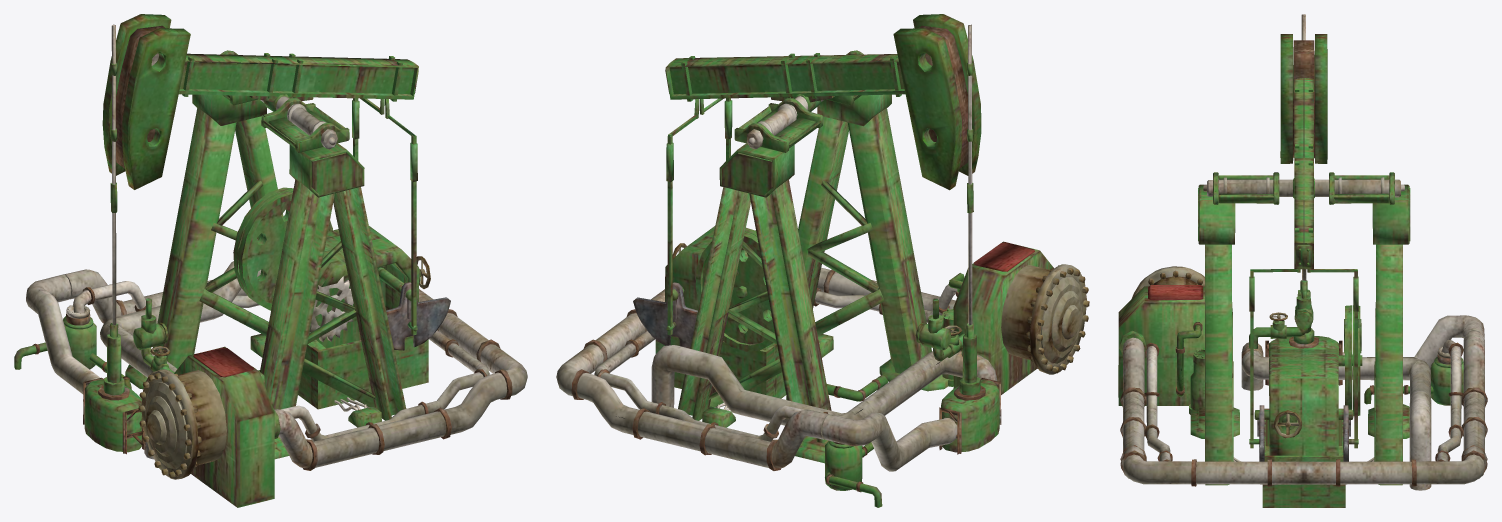
Rendered from pumpjack.glb.
3 views of the same model, side by side, from view 1: azimuth 30°, elevation 25°; view 2: azimuth 150°, elevation 25°; view 3: azimuth 270°, elevation 25° (orthographic). The views are drawn at different scales.
Parts seen in each view (by area): view 1: body; view 2: body; view 3: body.
Boxes of the visible parts, bbox=[...] form: body: bbox=[14, 14, 527, 507]; body: bbox=[556, 14, 1089, 507]; body: bbox=[1118, 14, 1487, 507].
Bounding box in the file's own units: 3.14 × 3.45 × 3.15.
1 material, 1 textured.
